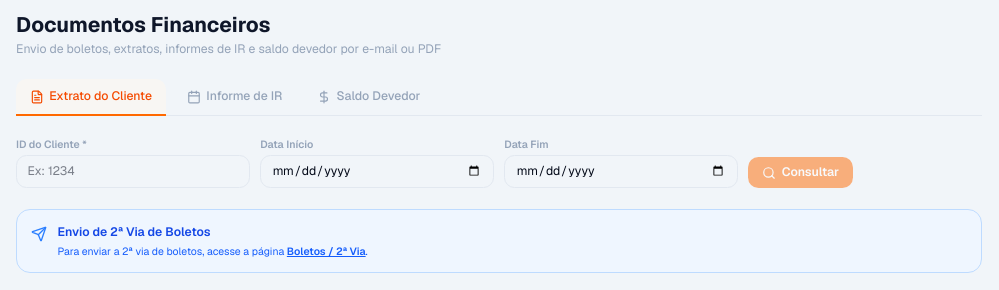
Test: DocumentosFinanceirosPage › enables consultar when customerId is provided
Type "100" into the number field with placeholder "Ex: 1234" at [133, 172], box [16,155,250,188]
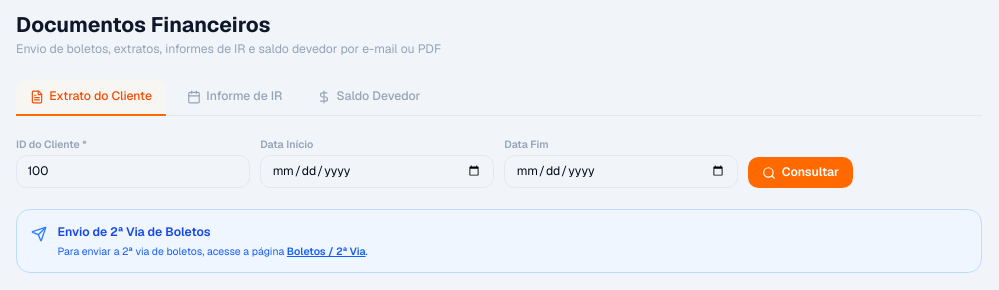
Result: the button "Consultar" is enabled at [748,157,853,188]
